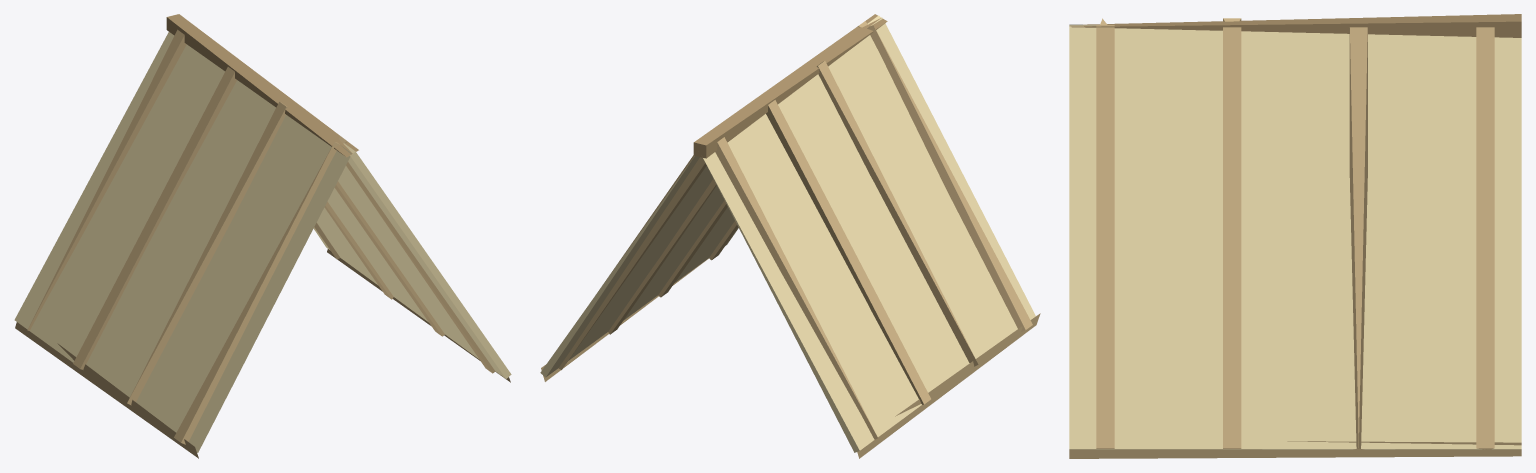
File: 18-Casas_techo_paja.glb
The picture shows the model from 3 angles, left to right: view 1: azimuth 30°, elevation 25°; view 2: azimuth 150°, elevation 25°; view 3: azimuth 270°, elevation 25°; orthographic projection. The views are drawn at different scales.
Parts seen in each view (by area): view 1: SM_TechoP_M_TechoPaja_Tablero, SM_TechoP_M_TechoPaja_Madera_Med, SM_TechoP_M_TechoPaja_Madera_Osc; view 2: SM_TechoP_M_TechoPaja_Tablero, SM_TechoP_M_TechoPaja_Madera_Med, SM_TechoP_M_TechoPaja_Madera_Osc; view 3: SM_TechoP_M_TechoPaja_Tablero, SM_TechoP_M_TechoPaja_Madera_Med, SM_TechoP_M_TechoPaja_Madera_Osc.
Part boxes in pixels (x1=…): SM_TechoP_M_TechoPaja_Tablero: x1=14, y1=32, x2=511, y2=452; SM_TechoP_M_TechoPaja_Madera_Med: x1=15, y1=29, x2=510, y2=458; SM_TechoP_M_TechoPaja_Madera_Osc: x1=166, y1=14, x2=358, y2=157; SM_TechoP_M_TechoPaja_Tablero: x1=540, y1=15, x2=1035, y2=452; SM_TechoP_M_TechoPaja_Madera_Med: x1=541, y1=21, x2=1040, y2=458; SM_TechoP_M_TechoPaja_Madera_Osc: x1=693, y1=14, x2=887, y2=158; SM_TechoP_M_TechoPaja_Tablero: x1=1069, y1=24, x2=1521, y2=449; SM_TechoP_M_TechoPaja_Madera_Med: x1=1069, y1=18, x2=1521, y2=458; SM_TechoP_M_TechoPaja_Madera_Osc: x1=1069, y1=14, x2=1521, y2=37.
Bounding box in the file's own units: 1.03 × 0.84 × 1.
